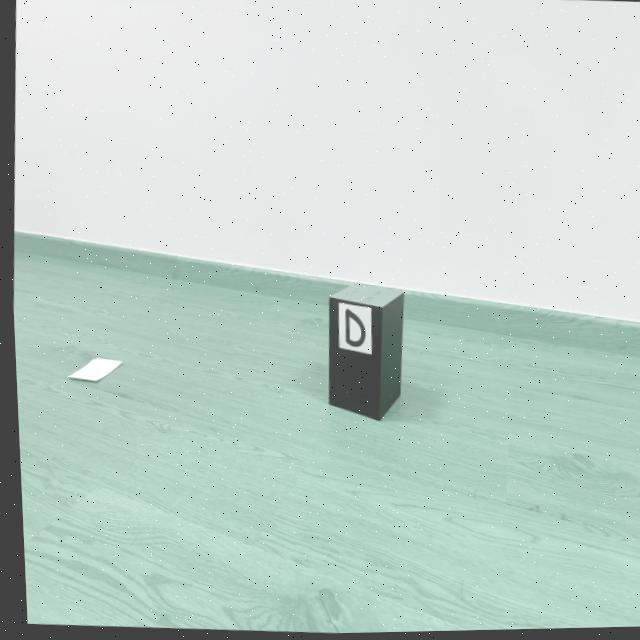A: (12, 0, 640, 325)
